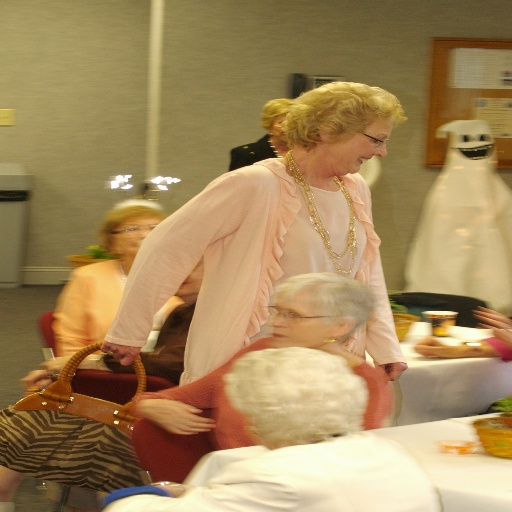hand: (111, 387, 221, 446), (474, 305, 511, 341), (43, 352, 98, 376), (99, 338, 142, 368), (411, 336, 451, 358), (376, 361, 410, 382), (19, 366, 52, 387), (157, 483, 187, 497)
